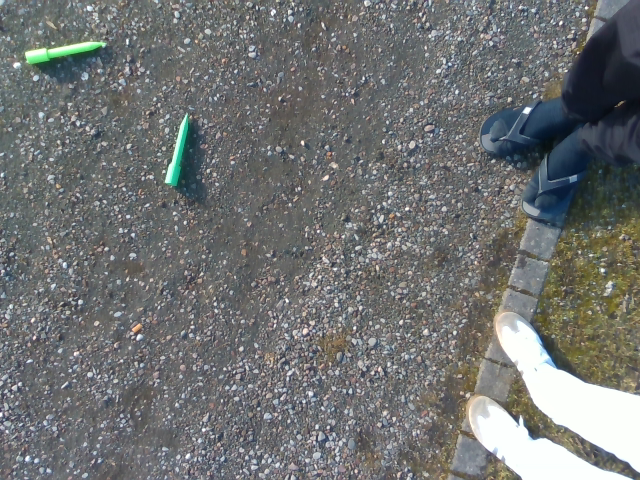Probe: (21, 35, 108, 68), (160, 109, 195, 191)
